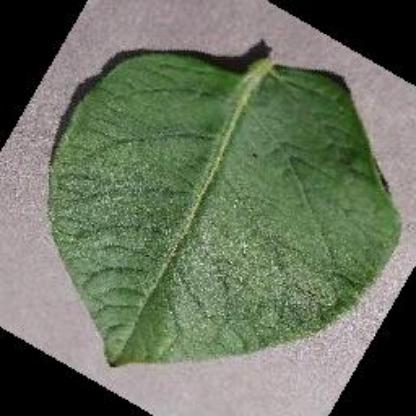Healthy-plant: (40, 34, 408, 372)
